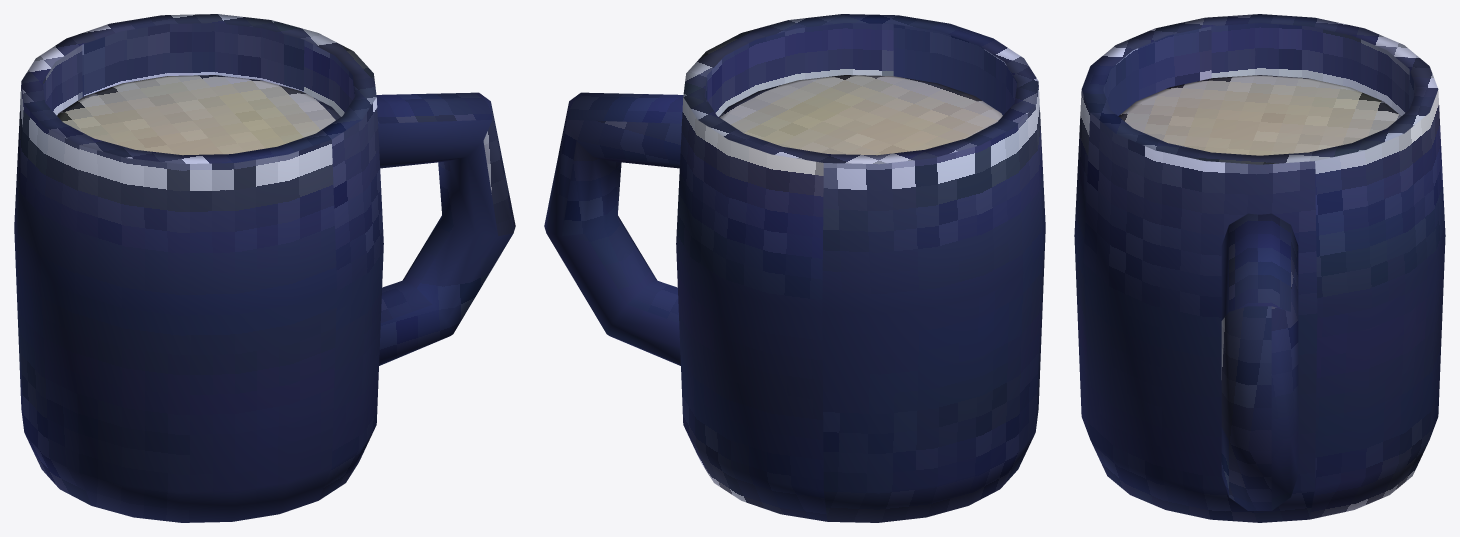
File: mug_milk.glb
The picture shows the model from 3 angles, left to right: view 1: azimuth 30°, elevation 25°; view 2: azimuth 150°, elevation 25°; view 3: azimuth 270°, elevation 25°; orthographic projection.
Visible parts, largest first — view 1: prop_mug_milk_felt; view 2: prop_mug_milk_felt; view 3: prop_mug_milk_felt.
Boxes of the visible parts, x1,y1,x2,y2 form: prop_mug_milk_felt: [14, 14, 515, 522]; prop_mug_milk_felt: [544, 14, 1045, 522]; prop_mug_milk_felt: [1074, 14, 1445, 522].
Size of the model in its own units: 0.192 by 0.1425 by 0.131.
1 material, 1 textured.
